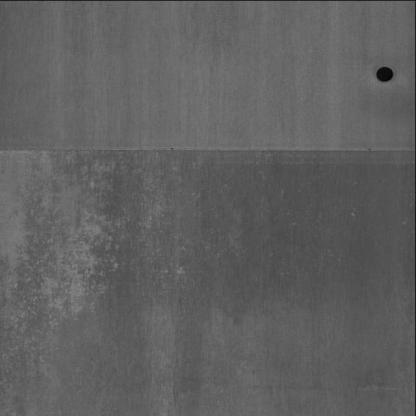punching_hole: (373, 62, 397, 86)
welding_line: (1, 134, 416, 163)
